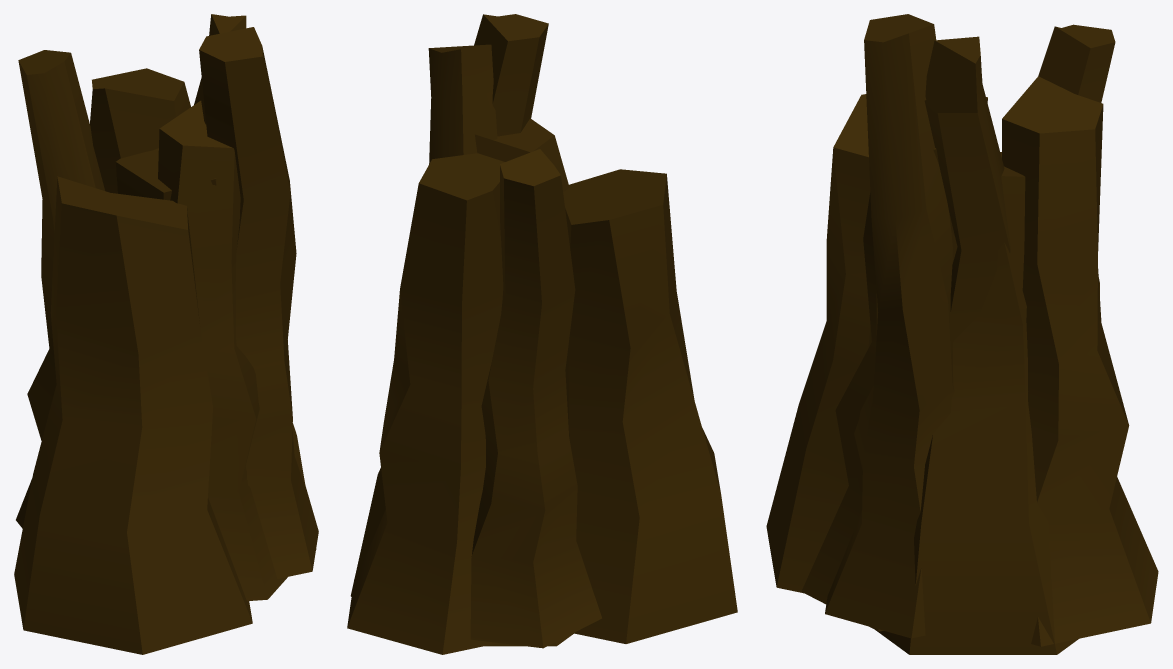
File: tronc.fbx
3 renders of one model, left to right at view 1: azimuth 30°, elevation 25°; view 2: azimuth 150°, elevation 25°; view 3: azimuth 270°, elevation 25°, orthographic. The views are drawn at different scales.
Parts seen in each view (by area): view 1: tronc_mort; view 2: tronc_mort; view 3: tronc_mort.
Part boxes in pixels (x1,y1,x2,y2): tronc_mort: (14, 14, 318, 654); tronc_mort: (347, 14, 737, 654); tronc_mort: (766, 14, 1158, 654).
Size of the model in its own units: 802 by 1342 by 811.
